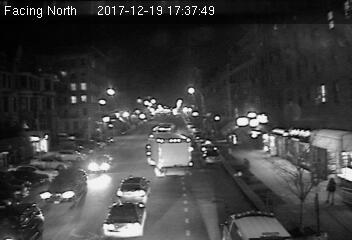car: (103, 202, 150, 238), (42, 170, 89, 205), (116, 177, 153, 203), (87, 154, 112, 173)
police: (220, 210, 291, 240)
truck: (146, 132, 193, 176)
